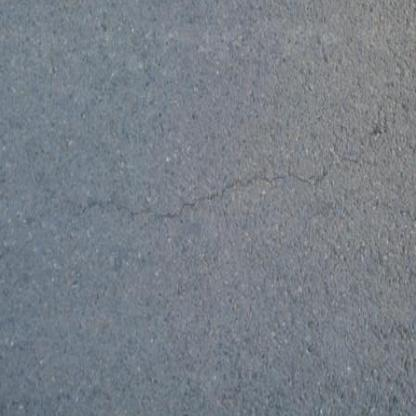Cracks: (62, 153, 364, 223)
